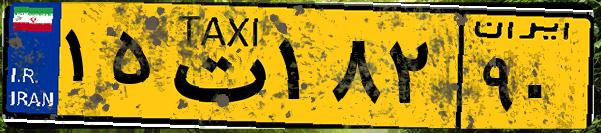0: (525, 38, 570, 115)
1: (270, 28, 330, 110), (57, 26, 110, 100)
2: (385, 28, 445, 110)
5: (110, 28, 158, 98)
8: (330, 28, 385, 110)
9: (475, 38, 525, 113)
ت: (158, 12, 270, 120)
